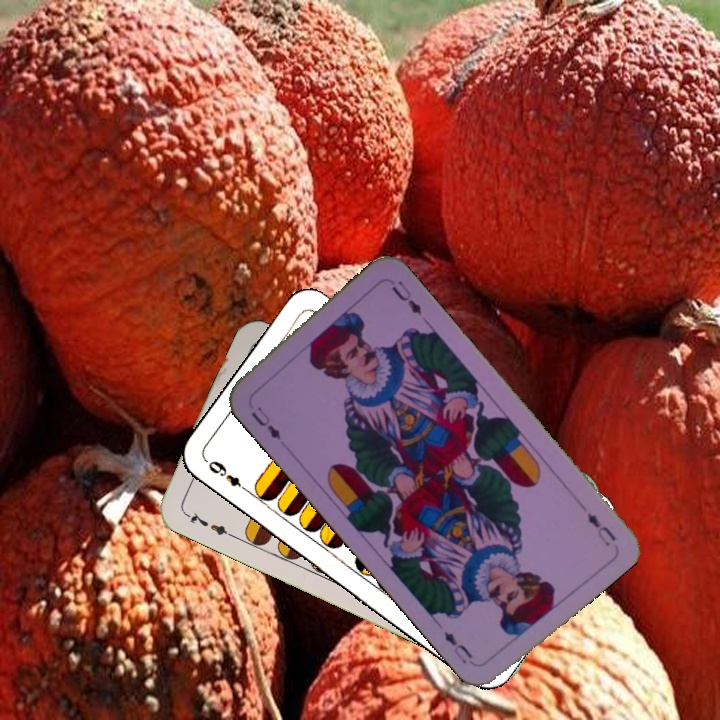E7: (179, 507, 235, 540)
E9: (202, 456, 253, 496)
EU: (246, 402, 284, 443), (582, 508, 619, 550)
